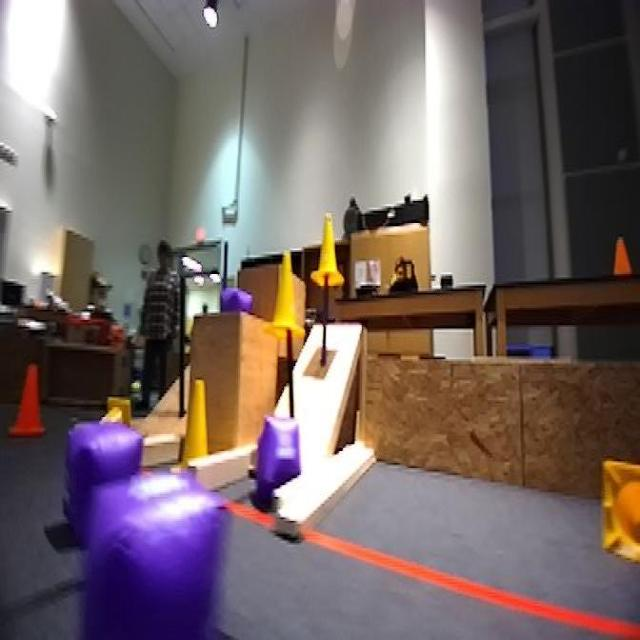frc_cone: (170, 371, 220, 487), (601, 459, 640, 566), (268, 243, 304, 339), (92, 392, 132, 439), (317, 216, 341, 293)
frc_cube: (73, 468, 240, 626), (57, 426, 129, 540), (250, 417, 300, 506), (214, 289, 242, 315)
